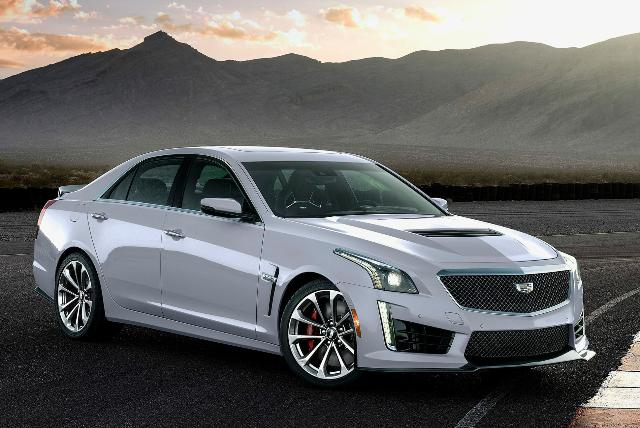cadillac: (32, 144, 596, 388), (574, 421, 594, 422)
